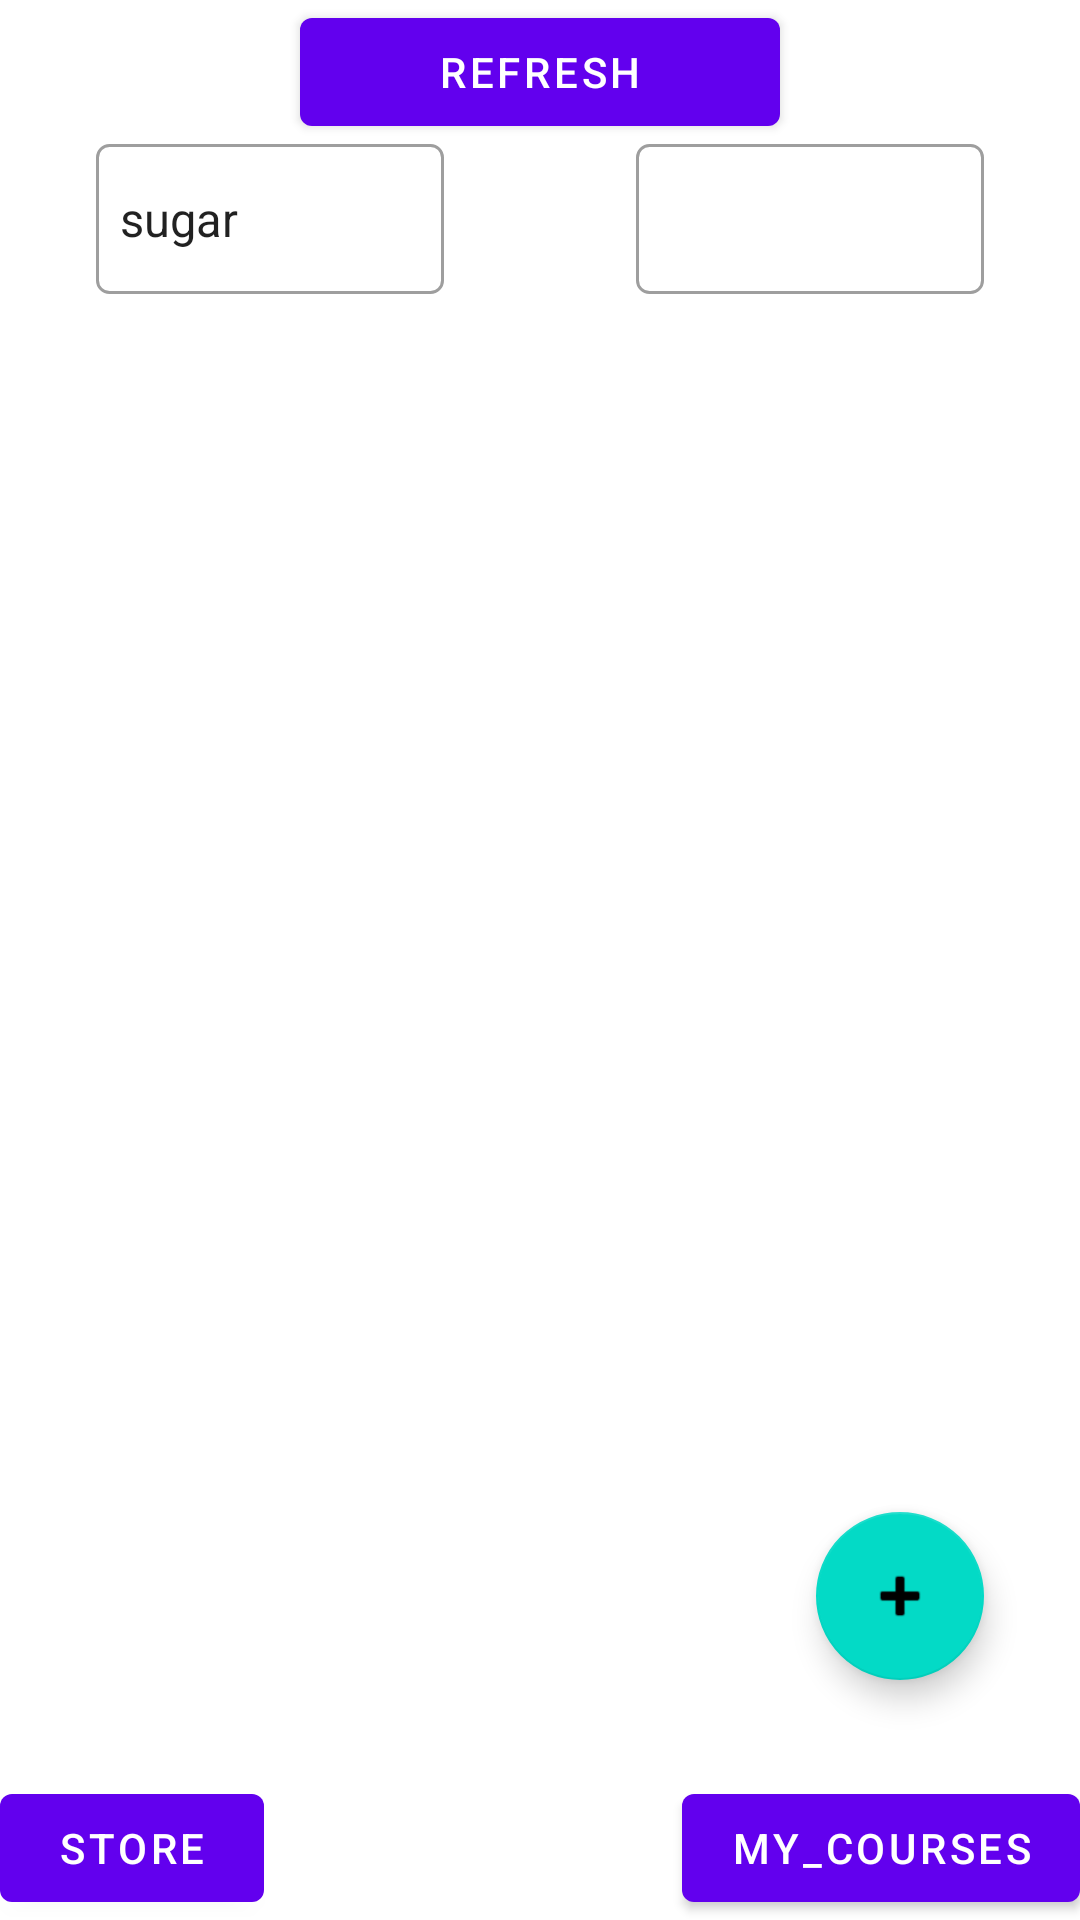

Named icons in this screenshot (1080 × 1920) and their bounding boxes, (x1, y1, x2, y2):
add: (816, 1512, 984, 1680)
